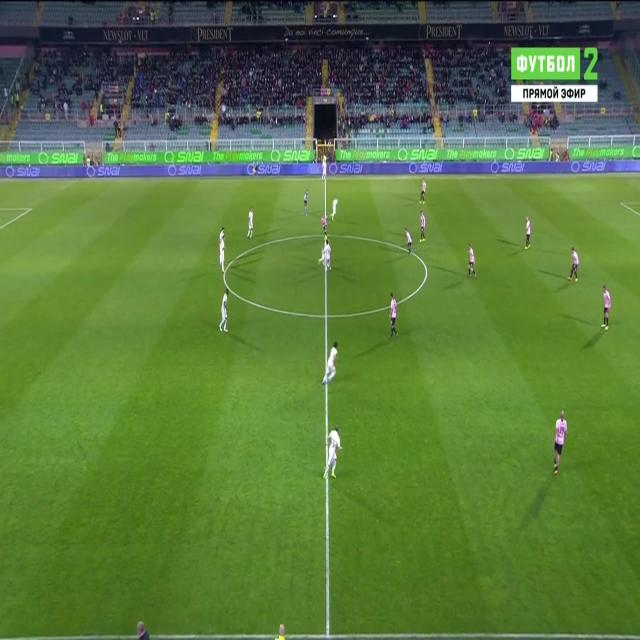Player: (320, 422, 344, 485), (552, 408, 568, 478), (321, 338, 340, 389), (386, 291, 400, 340), (600, 283, 613, 333), (217, 287, 230, 334), (566, 245, 581, 284), (466, 240, 478, 282), (218, 227, 226, 280), (328, 190, 339, 224), (403, 223, 414, 257), (524, 212, 533, 253), (418, 207, 427, 245), (418, 176, 428, 206), (324, 237, 333, 270), (246, 208, 254, 240), (320, 212, 329, 236), (320, 158, 329, 181)
Referee: (299, 189, 311, 218)
